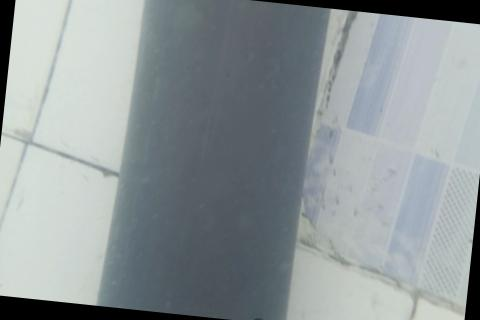kebocoran: (245, 314, 277, 320)
